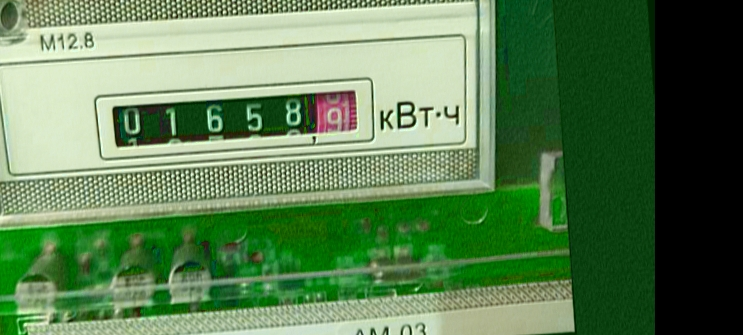0: (119, 103, 142, 137)
1: (163, 105, 178, 137)
5: (243, 100, 264, 133)
6: (203, 102, 225, 134)
8: (282, 95, 303, 129)
9: (323, 105, 342, 132)
screen: (85, 67, 381, 166)
